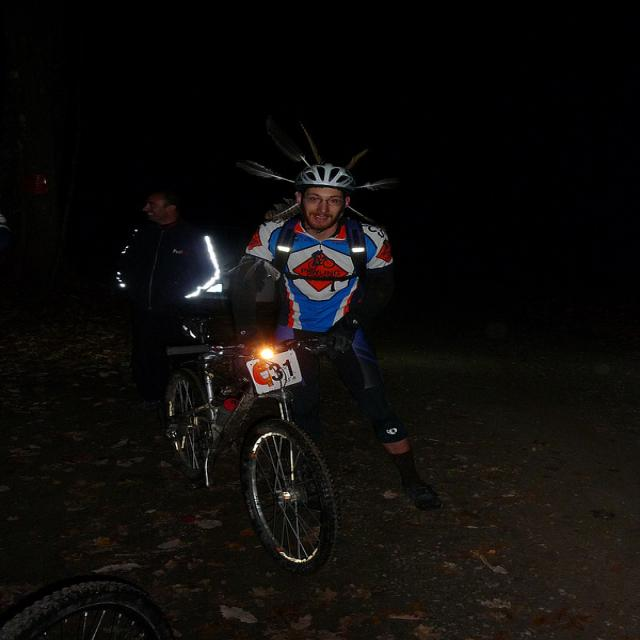Bicycle: (120, 336, 418, 608)
People: (278, 147, 405, 379), (123, 172, 243, 337)
